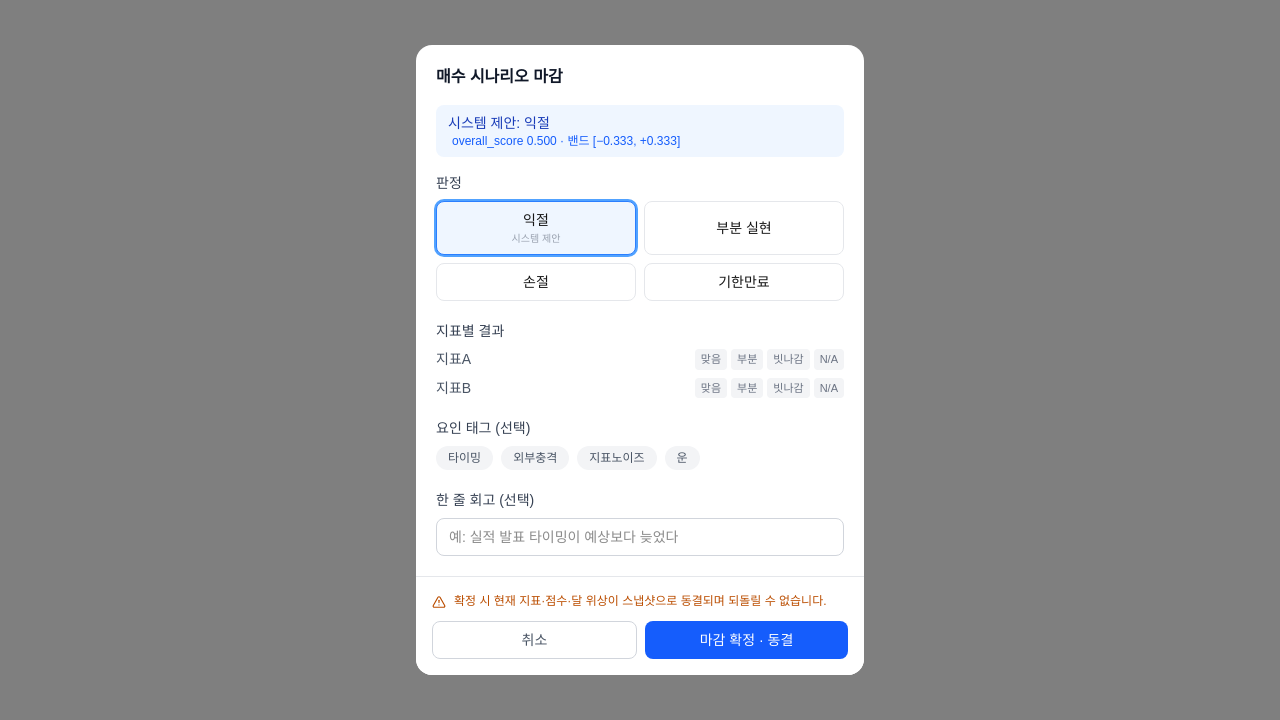
Test case: CloseModal › 네트워크 오류 시 모달이 유지되고 인라인 에러를 보여준다
This screenshot has width=1280, height=720.
Click the button with test id "close-modal-submit".
click(746, 640)  # box [645,621,848,659]
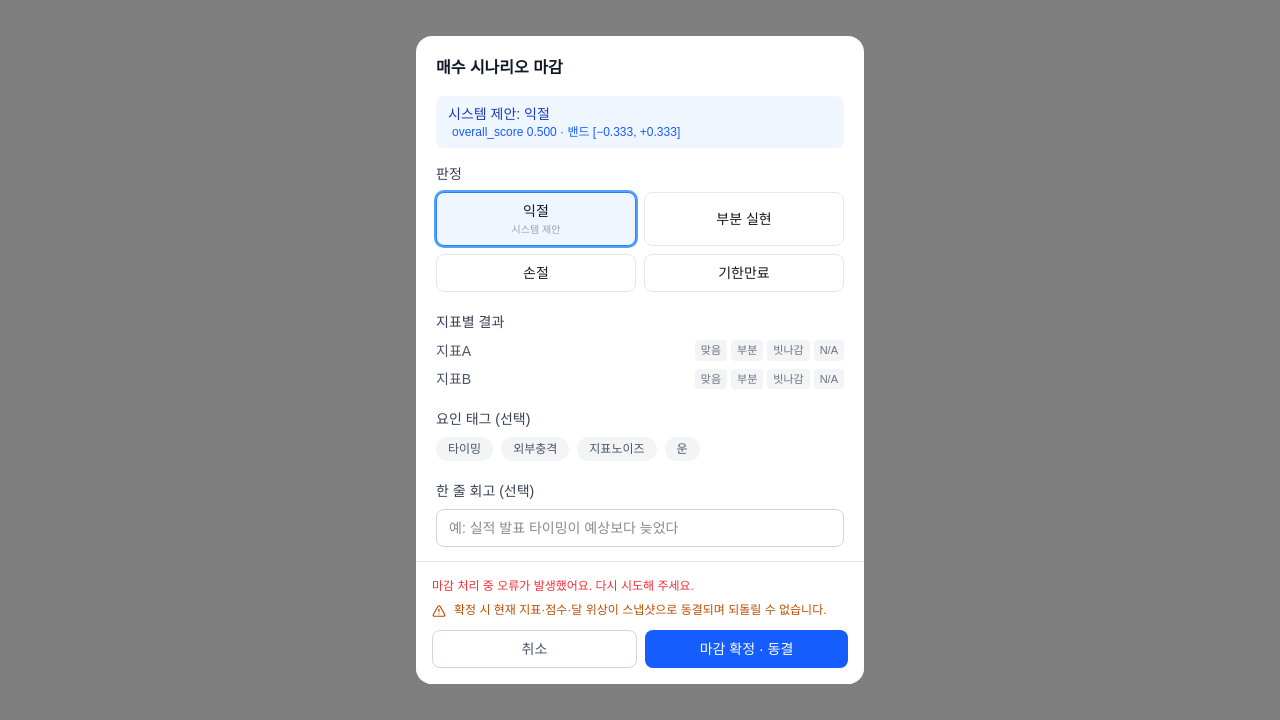
Expected: the text "마감 처리 중 오류가 발생했어요. 다시 시도해 주세요." is shown, [432,579,694,593]
